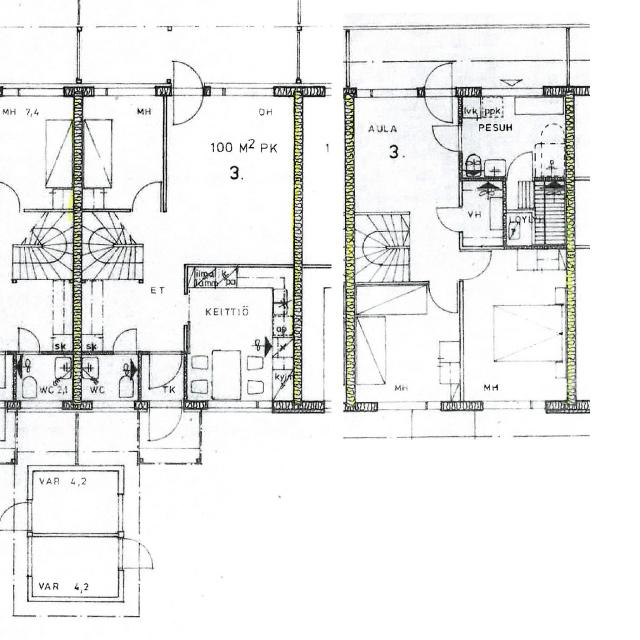door: (149, 400, 181, 444), (172, 54, 202, 97), (172, 83, 202, 126), (150, 351, 182, 386), (424, 60, 452, 98), (424, 88, 452, 126), (458, 251, 491, 280), (118, 539, 152, 567), (132, 180, 160, 213), (428, 281, 456, 313), (432, 206, 463, 232), (507, 151, 533, 182), (432, 125, 462, 150), (113, 328, 136, 354)
